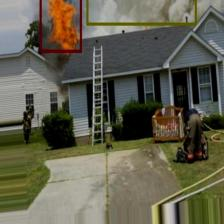fire: (39, 0, 81, 52)
smoke: (86, 0, 196, 25)
